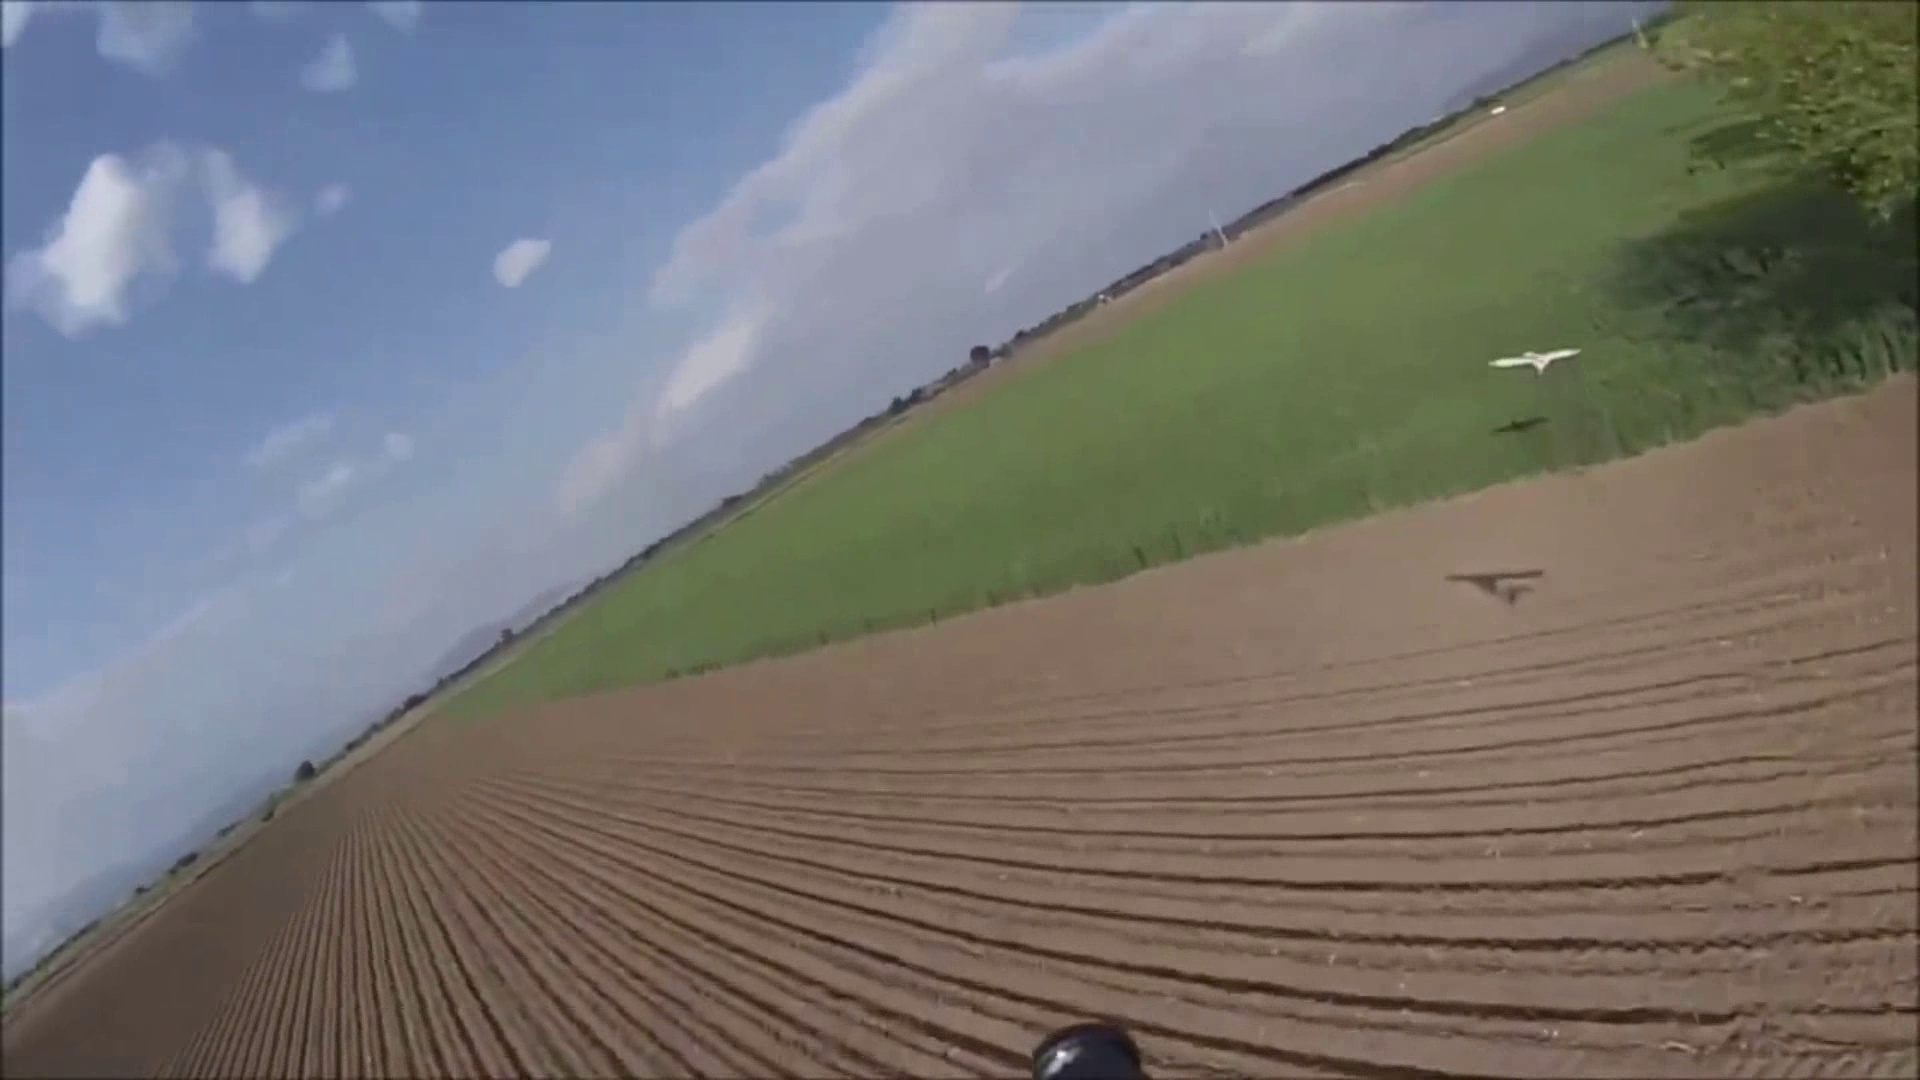airplane: (1487, 349, 1578, 376)
